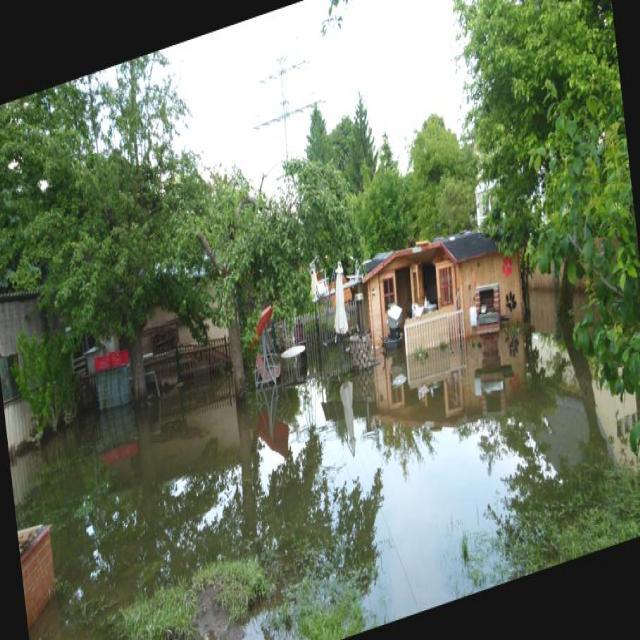flood: (47, 292, 570, 639)
